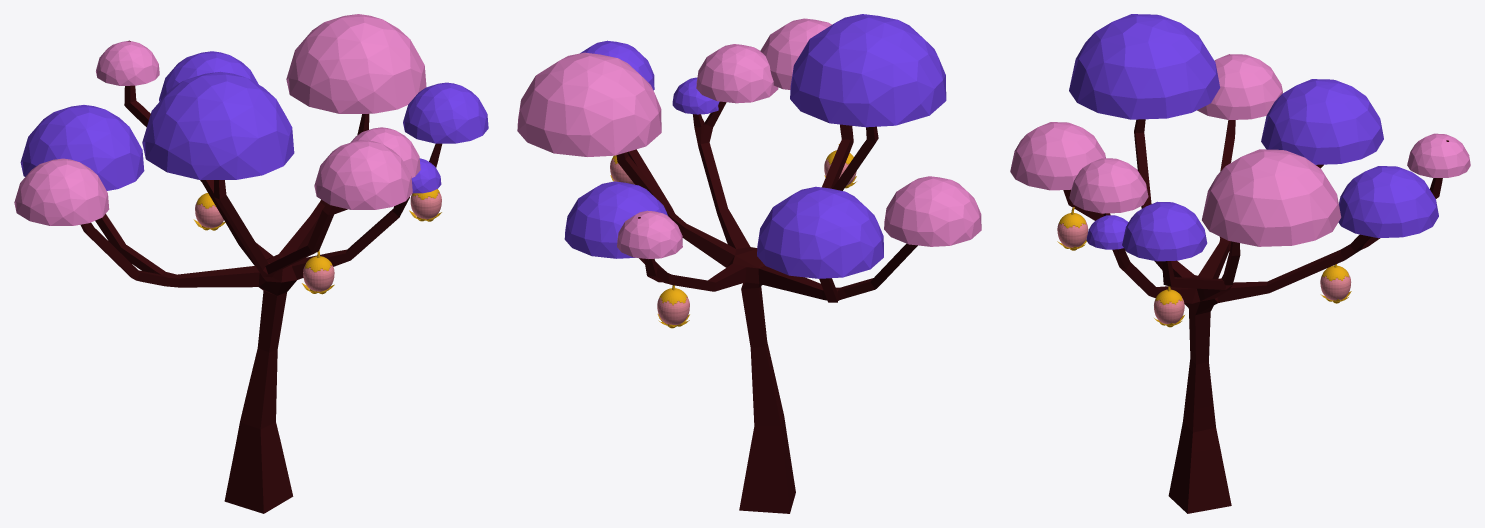
File: Purple_Tree.fbx
The picture shows the model from 3 angles, left to right: view 1: azimuth 30°, elevation 25°; view 2: azimuth 150°, elevation 25°; view 3: azimuth 270°, elevation 25°; orthographic projection. The views are drawn at different scales.
Visible parts, largest first — view 1: Cube.002, Sphere.006, Sphere.005, Sphere.001, Sphere.003, Sphere.004, Sphere, Sphere.002, Sphere.009, Sphere.008, Qualot.002, Qualot.003 (+2 smaller); view 2: Cube.002, Sphere.006, Sphere.005, Sphere.001, Sphere.004, Sphere.009, Sphere.008, Sphere.002, Sphere.003, Sphere, Qualot.001, Sphere.007; view 3: Cube.002, Sphere.006, Sphere.005, Sphere.001, Sphere.009, Sphere.003, Sphere, Sphere.004, Sphere.008, Sphere.002, Sphere.007, Qualot.002 (+2 smaller).
Part boxes in pixels (box(x1,y1,x2,y2)): Cube.002: box(80, 40, 442, 513); Sphere.006: box(142, 71, 294, 179); Sphere.005: box(286, 14, 426, 113); Sphere.001: box(20, 105, 144, 190); Sphere.003: box(314, 140, 412, 209); Sphere.004: box(14, 158, 109, 225); Sphere: box(403, 82, 488, 143); Sphere.002: box(96, 41, 159, 85); Sphere.009: box(159, 51, 258, 101); Sphere.008: box(350, 127, 420, 177); Qualot.002: box(302, 250, 334, 294); Qualot.003: box(409, 189, 441, 221); Cube.002: box(616, 101, 917, 513); Sphere.006: box(790, 14, 946, 127); Sphere.005: box(517, 52, 661, 156); Sphere.001: box(757, 186, 883, 278); Sphere.004: box(884, 176, 981, 246); Sphere.009: box(564, 181, 668, 258); Sphere.008: box(696, 44, 778, 103); Sphere.002: box(617, 210, 682, 258); Sphere.003: box(760, 18, 831, 89); Sphere: box(580, 40, 654, 90); Qualot.001: box(657, 285, 689, 328); Sphere.007: box(672, 77, 719, 114); Cube.002: box(1063, 119, 1448, 513); Sphere.006: box(1069, 14, 1220, 119); Sphere.005: box(1202, 149, 1341, 246); Sphere.001: box(1261, 79, 1383, 164); Sphere.009: box(1338, 166, 1438, 238); Sphere.003: box(1010, 122, 1105, 190); Sphere: box(1122, 201, 1207, 261); Sphere.004: box(1197, 54, 1282, 119); Sphere.008: box(1069, 158, 1148, 213); Sphere.002: box(1407, 133, 1470, 177); Sphere.007: box(1086, 215, 1128, 249); Qualot.002: box(1057, 207, 1088, 250).
Bounding box in the file's own units: 985 × 1013 × 944.
